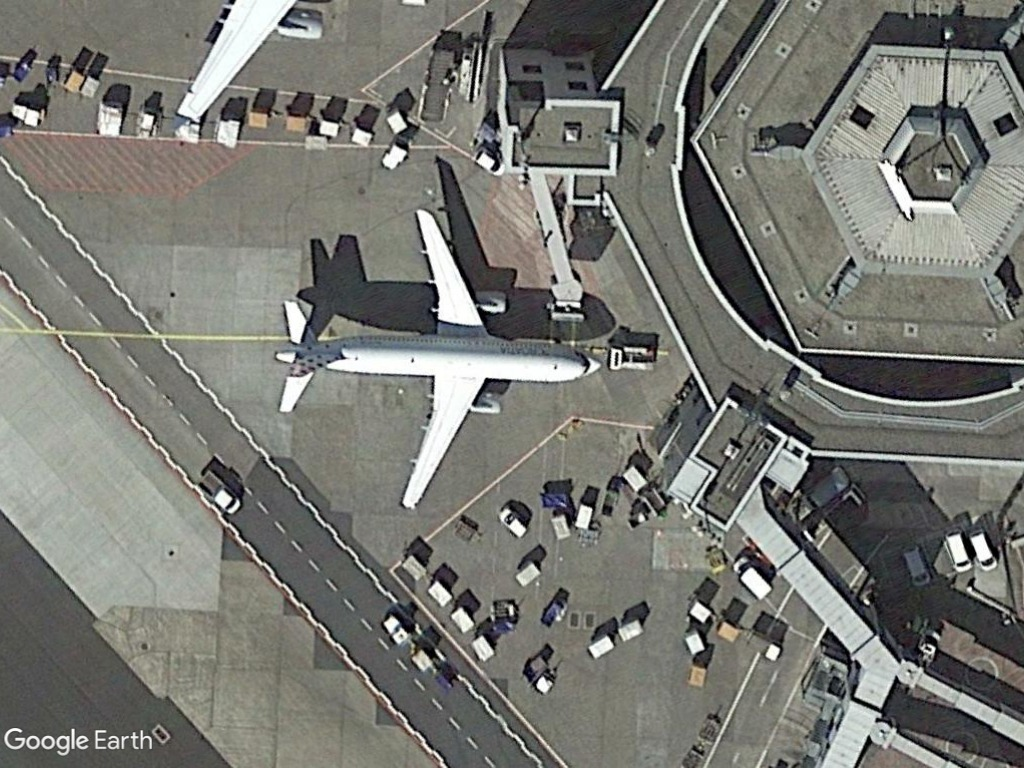airliner: (268, 198, 618, 510)
pushbacktruck: (603, 343, 662, 377)
